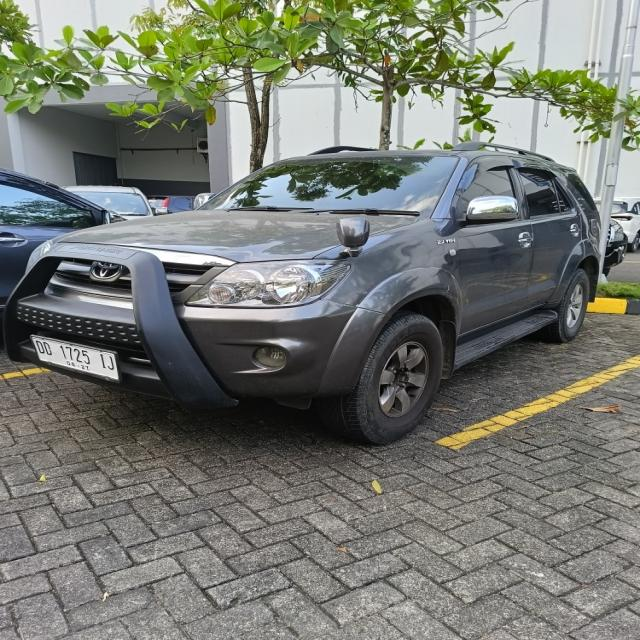plates: (28, 331, 132, 387)
